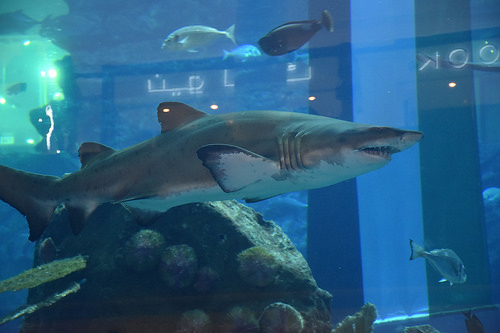shark: (6, 83, 431, 241)
